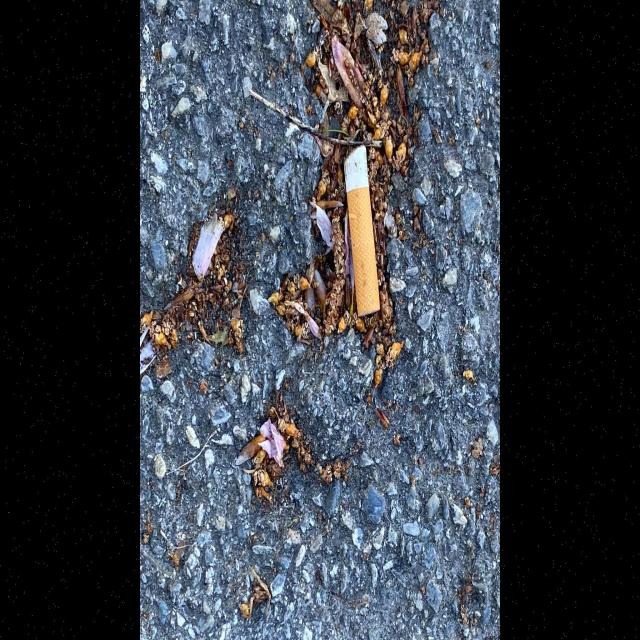other waste: (343, 142, 381, 318)
